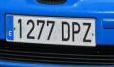1: (17, 18, 24, 39)
2: (26, 18, 36, 40)
7: (46, 19, 56, 41), (36, 19, 45, 41)
D: (61, 20, 71, 42)
P: (71, 20, 81, 43)
Z: (82, 21, 92, 43)
